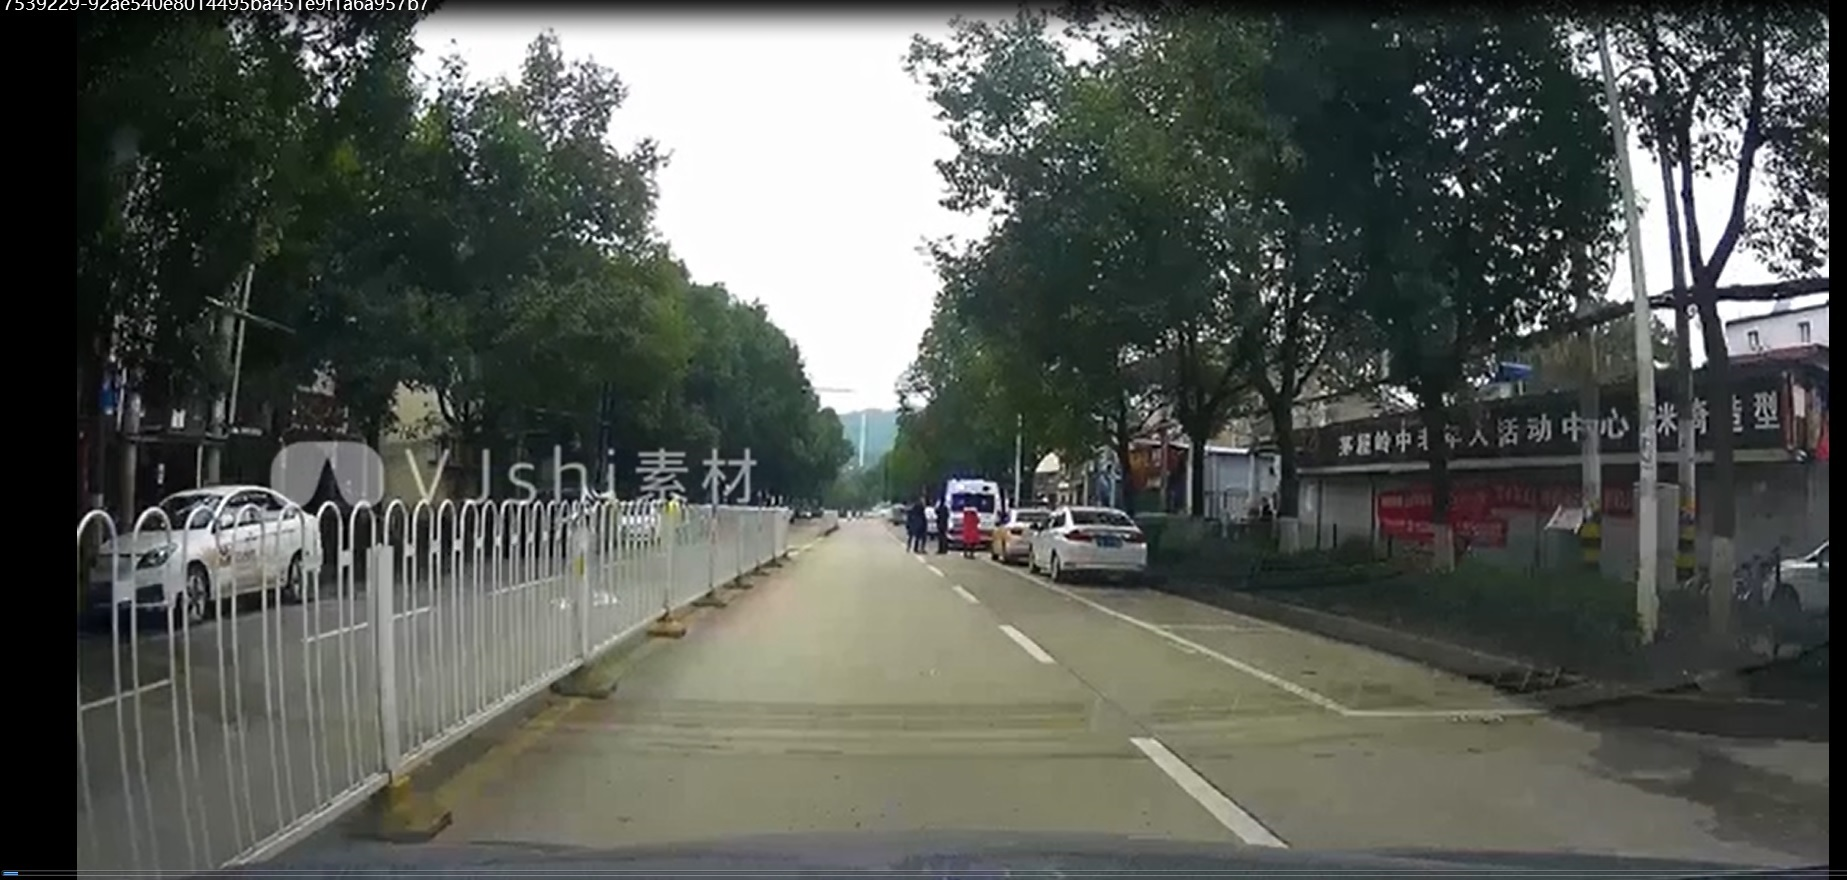slot_nocar: (1138, 604, 1596, 741), (1044, 565, 1308, 641)
